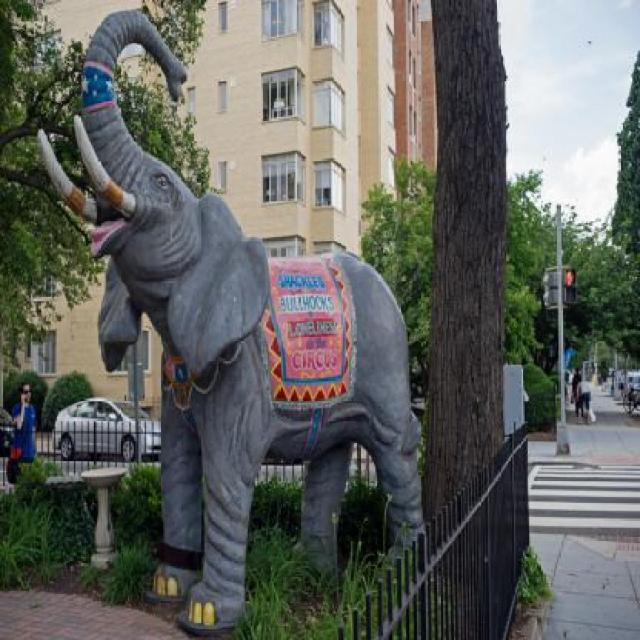Elephant: (59, 86, 415, 611)
